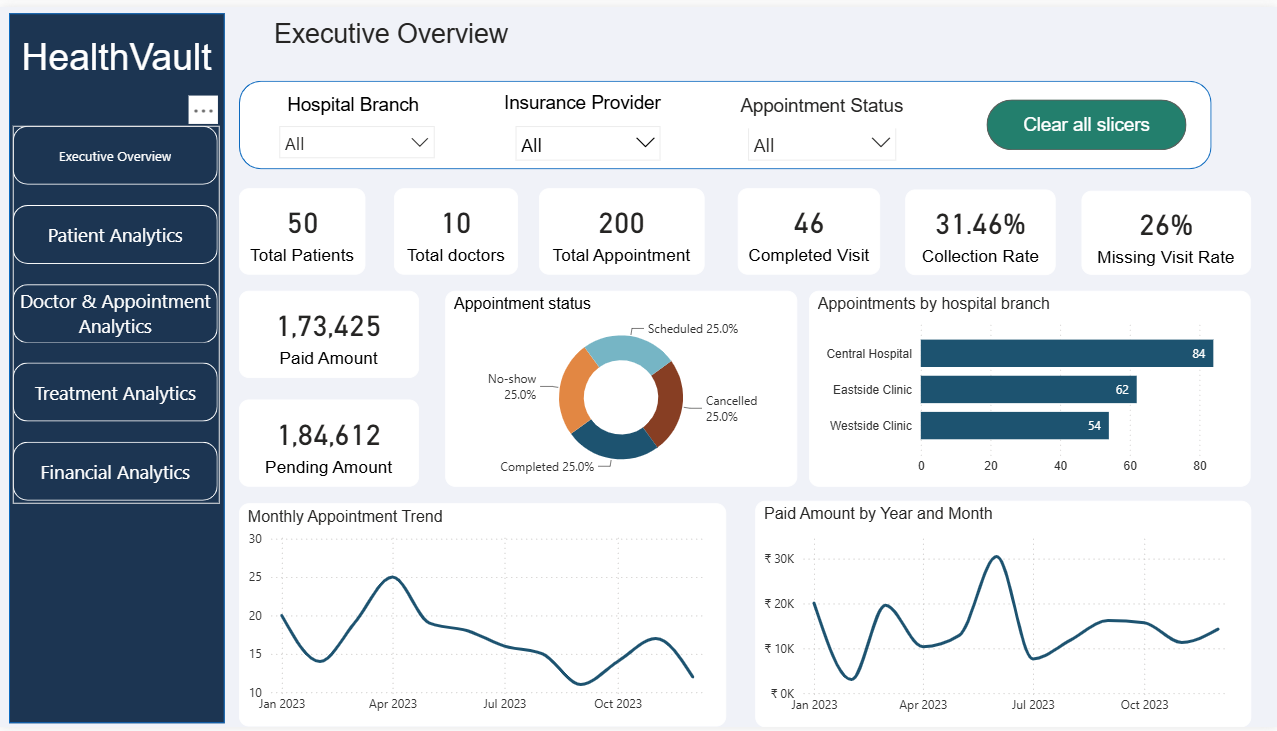

What the dashboard file says about the page in this screenshot:
{"tool":"powerbi","page":{"name":"Executive Overview","canvas":[1280,720],"ordinal":0},"visuals":[{"type":"shape","box":[10,5.7,215.7,710],"z":0},{"type":"textbox","box":[9.7,23.6,215.3,62.5],"z":1000},{"type":"pageNavigator","box":[14.1,118.3,205.6,377.5],"z":2000},{"type":"textbox","box":[270,7.1,248.6,48.6],"z":3000},{"type":"shape","box":[240.6,73.9,972.5,88.4],"z":4000},{"type":"actionButton","box":[987,92.8,200,50.7],"z":5000},{"type":"card","fields":{"Values":["patient_measure.Total Patient"]},"box":[240,181.3,126.7,86.7],"z":6000},{"type":"card","fields":{"Values":["doctor_measure.Total doctor"]},"box":[394.7,181.3,124,86.7],"z":7000},{"type":"card","fields":{"Values":["appointment_measure.Total Appointment"]},"box":[540,181.3,165.3,86.7],"z":8000},{"type":"card","fields":{"Values":["billing_measure.Paid Amount"]},"box":[240.6,284.1,179.7,87],"z":9000},{"type":"card","fields":{"Values":["billing_measure.Pending Amount"]},"box":[240.6,392.8,179.7,87],"z":10000},{"type":"card","fields":{"Values":["appointment_measure.Appointment Not Show Rate"]},"box":[1082.7,184,169.3,84],"z":11000},{"type":"card","fields":{"Values":["doctor_measure.Appointment Complete"]},"box":[738.7,181.3,142.7,86.7],"z":12000},{"type":"card","fields":{"Values":["billing_measure.Collection Rate"]},"box":[906.7,182.7,150.7,85.3],"z":13000},{"type":"donutChart","title":"Appointment status","fields":{"Category":["appointments.status"],"Y":["CountNonNull(patients.patient_id)"]},"box":[446.7,284,352,196],"z":14000},{"type":"clusteredBarChart","title":"Appointments by hospital branch","fields":{"Category":["doctors.hospital_branch"],"Y":["CountNonNull(appointments.appointment_id)"]},"box":[810,284.3,441.4,195.7],"z":15000},{"type":"lineChart","title":"Monthly Appointment Trend","fields":{"Category":["appointments.appointment_date.Variation.Date Hierarchy.Year","appointments.appointment_date.Variation.Date Hierarchy.Month"],"Y":["appointment_measure.Total Appointment"]},"box":[240.6,495.7,487,223.2],"z":16000},{"type":"lineChart","fields":{"Category":["billing.bill_date.Variation.Date Hierarchy.Year","billing.bill_date.Variation.Date Hierarchy.Month"],"Y":["billing_measure.Paid Amount"]},"box":[756,493.3,496,226.7],"z":17000},{"type":"textbox","box":[262.5,81.9,182.6,42],"z":18000},{"type":"textbox","box":[500,80.6,178.3,37.7],"z":19000},{"type":"slicer","fields":{"Values":["doctors.hospital_branch"]},"box":[269.6,108.7,175.4,44.9],"z":20000},{"type":"slicer","fields":{"Values":["patients.insurance_provider"]},"box":[505.8,108.7,165.2,47.8],"z":21000},{"type":"slicer","fields":{"Values":["appointments.status"]},"box":[739.1,108.7,168.1,50.7],"z":22000},{"type":"textbox","box":[724.6,84.1,195.7,37.7],"z":23000}]}

Visuals, with their boxes in screenshot pixels (x1, y1, x2, y2), scaled from the page's 1280x720 canvas onto the 1277x731 screenshot:
shape: [10,6,225,727]
textbox: [10,24,224,87]
pageNavigator: [14,120,219,503]
textbox: [269,7,517,57]
shape: [240,75,1210,165]
actionButton: [985,94,1184,146]
card - patient_measure.Total Patient: [239,184,366,272]
card - doctor_measure.Total doctor: [394,184,517,272]
card - appointment_measure.Total Appointment: [539,184,704,272]
card - billing_measure.Paid Amount: [240,288,419,377]
card - billing_measure.Pending Amount: [240,399,419,487]
card - appointment_measure.Appointment Not Show Rate: [1080,187,1249,272]
card - doctor_measure.Appointment Complete: [737,184,879,272]
card - billing_measure.Collection Rate: [905,185,1055,272]
"Appointment status" donutChart: [446,288,797,487]
"Appointments by hospital branch" clusteredBarChart: [808,289,1248,487]
"Monthly Appointment Trend" lineChart: [240,503,726,730]
lineChart - billing.bill_date.Variation.Date Hierarchy.Year x billing.bill_date.Variation.Date Hierarchy.Month: [754,501,1249,730]
textbox: [262,83,444,126]
textbox: [499,82,677,120]
slicer - doctors.hospital_branch: [269,110,444,156]
slicer - patients.insurance_provider: [505,110,669,159]
slicer - appointments.status: [737,110,905,162]
textbox: [723,85,918,124]
